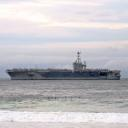Portanaves: (6, 46, 124, 82)
